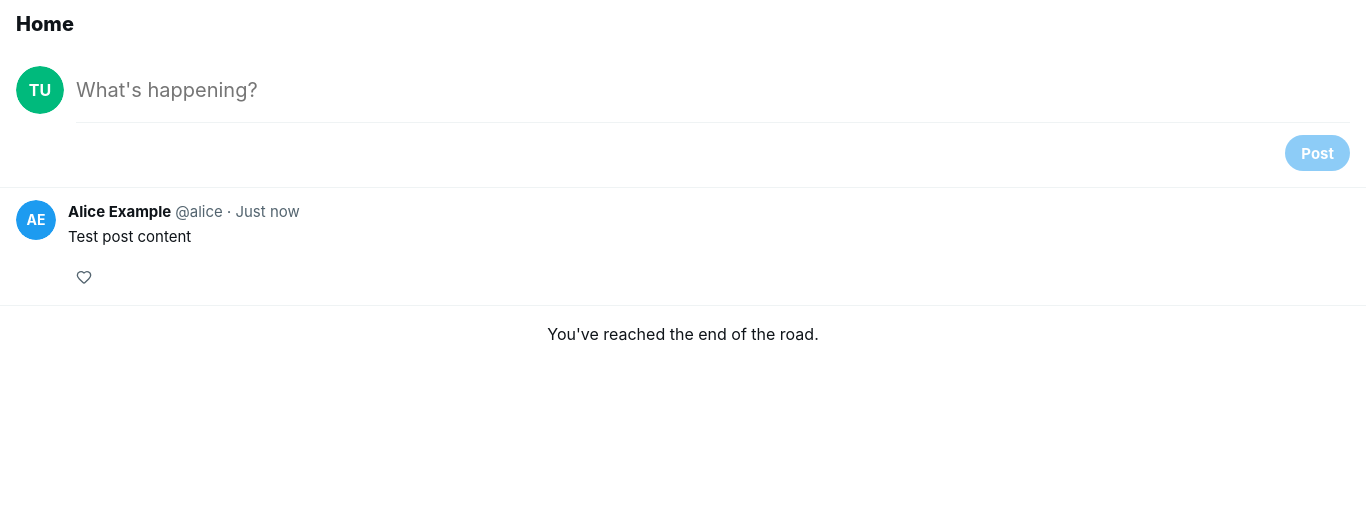
Test: Direct post and likes UI › rolls back a failed optimistic like on the timeline
Click the button with test id "post-like-button-7": click(86, 276) [68,260,104,292]
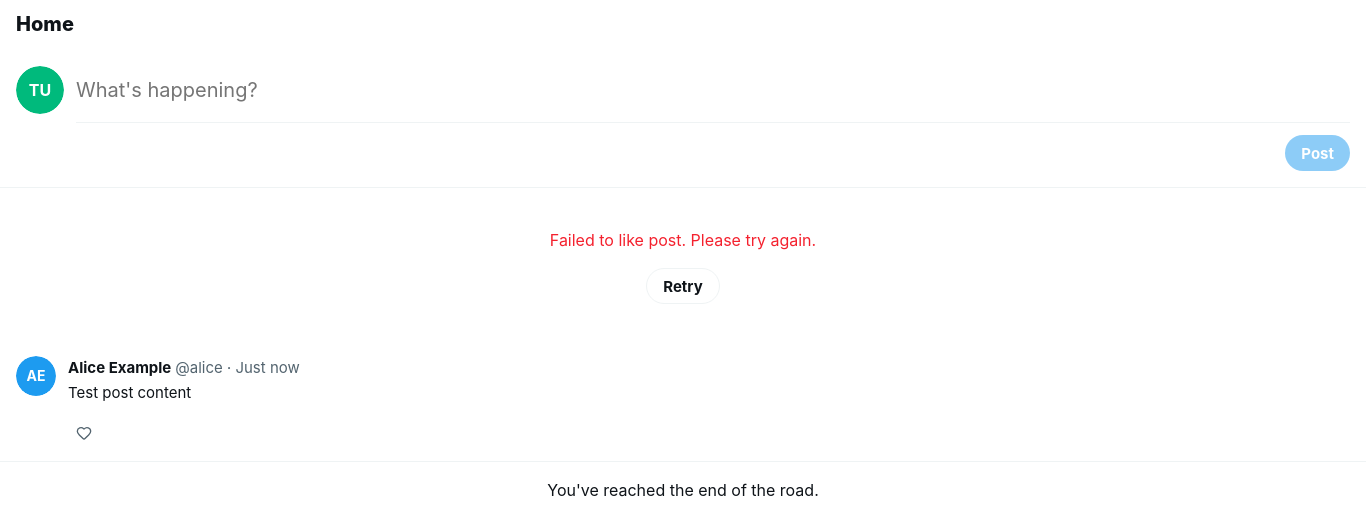
Expected: the button named "Like" is shown, [68,416,104,448]
Now the text "Failed to like post. Please try again." is shown, box [550,228,816,252]
